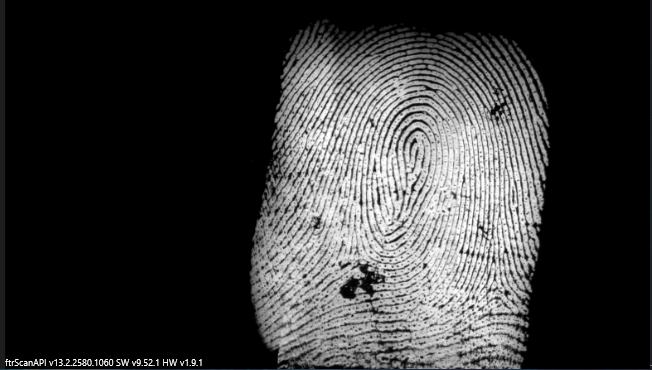nucelo: (401, 125, 432, 181)
verticilo: (480, 275, 512, 300), (340, 241, 367, 269)
